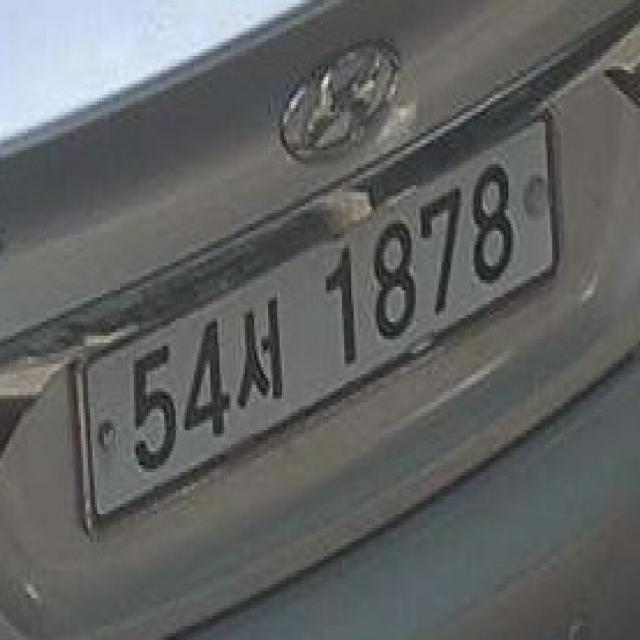1: (317, 238, 372, 388)
4: (180, 300, 229, 448)
5: (125, 314, 178, 476)
7: (418, 175, 474, 318)
8: (374, 192, 420, 360), (471, 161, 529, 294)
license_plate: (67, 101, 568, 549)
seo: (231, 266, 287, 412)
